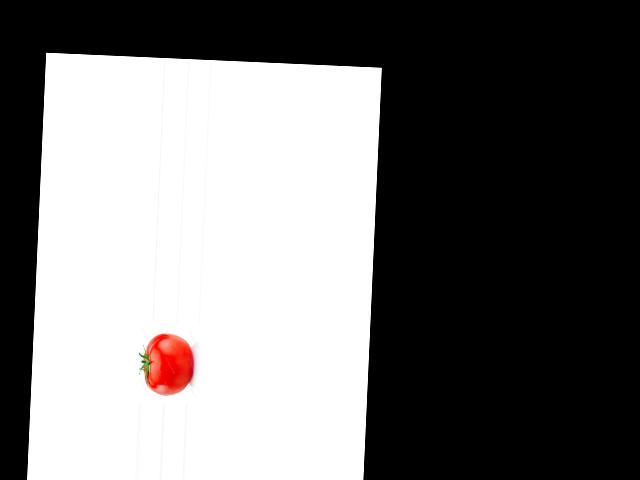tomato: (142, 332, 193, 396)
